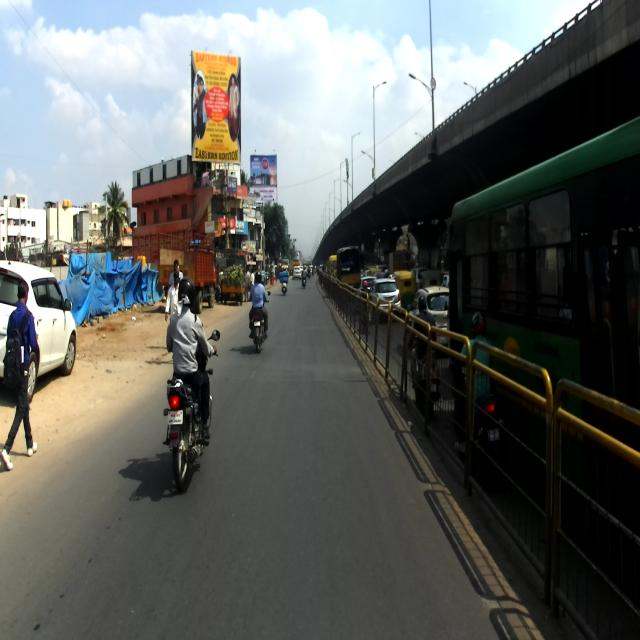motorcycle ahead at: (162, 281, 215, 480), (242, 265, 272, 356)
person ahead at: (2, 278, 38, 474)
